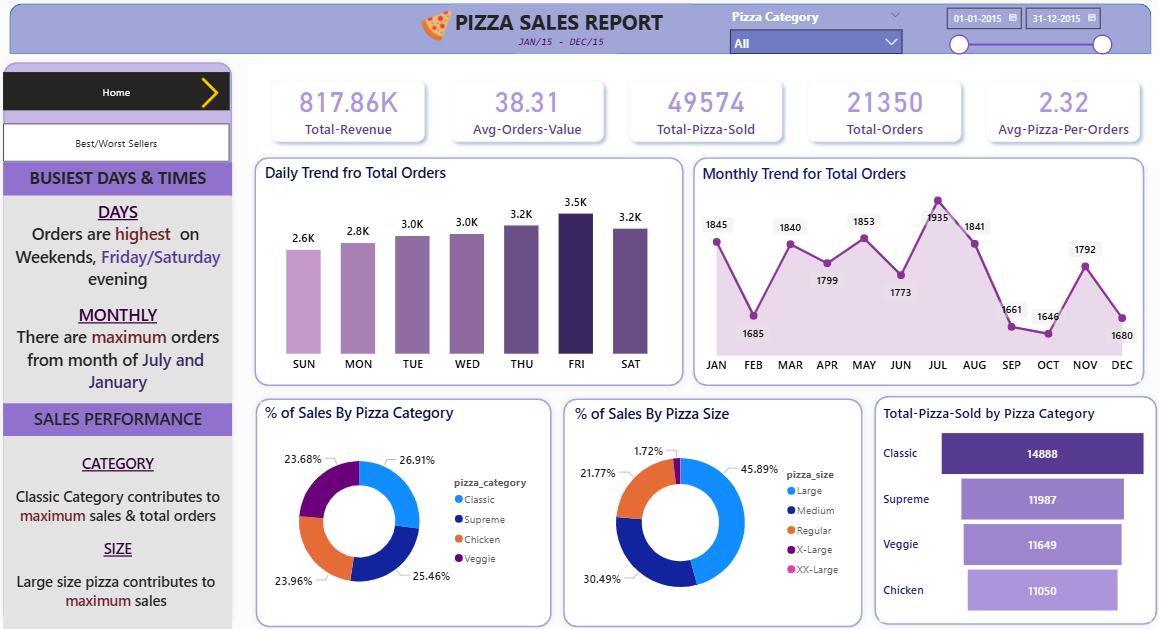

The page's visual inventory and layout, read from the dashboard file:
{"tool":"powerbi","page":{"name":"Home","canvas":[1500,820],"ordinal":0},"visuals":[{"type":"shape","box":[0,77.9,310.3,742.4],"z":0},{"type":"textbox","box":[8.5,213.9,294.7,42.5],"z":1000},{"type":"cardVisual","fields":{"Data":["public pizza_sales.Total-Revenue","public pizza_sales.Avg-Orders-Value","public pizza_sales.Total-Pizza-Sold","public pizza_sales.Total-Orders","public pizza_sales.Avg-Pizza-Per-Orders"]},"box":[323.2,78.8,1177.1,138.3],"z":2000},{"type":"shape","box":[15.6,9.9,1469.2,65.2],"z":3000},{"type":"textbox","box":[583.7,9.9,307.4,52.4],"z":4000},{"type":"textbox","box":[665.9,43.9,131.8,31.2],"z":5000},{"type":"image","box":[517.1,18.4,94.9,41.1],"z":6000},{"type":"shape","box":[323,199.8,568.1,310.3],"z":7000},{"type":"columnChart","title":"Daily Trend fro Total Orders","fields":{"Category":["public pizza_sales.order_day"],"Y":["public pizza_sales.Total-Orders"]},"box":[340,213.9,532.7,280.5],"z":8000},{"type":"shape","box":[888.3,199.8,596.4,310.3],"z":9000},{"type":"areaChart","title":"Monthly Trend for Total Orders","fields":{"Category":["public pizza_sales.order_month"],"Y":["public pizza_sales.Total-Orders"]},"box":[902.5,215.3,569.5,280.5],"z":10000},{"type":"shape","box":[324.4,510,396.7,310.3],"z":11000},{"type":"shape","box":[719.7,510,400.9,310.3],"z":12000},{"type":"shape","box":[1120.6,507.2,379.7,310.3],"z":13000},{"type":"donutChart","title":"% of Sales By Pizza Category","fields":{"Category":["public pizza_sales.pizza_category"],"Y":["public pizza_sales.Total-Revenue"]},"box":[340,522.8,362.7,281.9],"z":14000},{"type":"donutChart","title":"% of Sales By Pizza Size","fields":{"Category":["public pizza_sales.pizza_size"],"Y":["public pizza_sales.Total-Revenue"]},"box":[738.1,524.2,362.7,281.9],"z":15000},{"type":"funnel","title":"Total-Pizza-Sold by Pizza Category","fields":{"Category":["public pizza_sales.pizza_category"],"Y":["public pizza_sales.Total-Pizza-Sold"]},"box":[1134.8,524.2,349.9,280.5],"z":16000},{"type":"textbox","box":[8.5,257.8,294.7,266.3],"z":17000},{"type":"textbox","box":[8.5,524.2,294.7,42.5],"z":18000},{"type":"textbox","box":[8.5,566.7,294.7,250.8],"z":19000},{"type":"slicer","fields":{"Values":["public pizza_sales.pizza_category"]},"box":[932.2,9.9,242.3,65.2],"z":20000},{"type":"slicer","fields":{"Values":["public pizza_sales.order_date"]},"box":[1209.9,4.3,233.8,73.7],"z":21000},{"type":"pageNavigator","box":[8,98.1,291.1,49.9],"z":22000},{"type":"pageNavigator","box":[8,164,291.1,49.9],"z":23000},{"type":"image","box":[249.3,104.5,49.9,40.2],"z":23001}]}

Visuals, with their boxes in screenshot pixels (x1, y1, x2, y2), scaled from the page's 1500x820 canvas onto the 1159x629 screenshot:
shape: crop(0, 60, 240, 628)
textbox: crop(7, 164, 234, 197)
cardVisual - public pizza_sales.Total-Revenue x public pizza_sales.Avg-Orders-Value: crop(250, 60, 1158, 167)
shape: crop(12, 8, 1147, 58)
textbox: crop(451, 8, 689, 48)
textbox: crop(515, 34, 616, 58)
image: crop(400, 14, 473, 46)
shape: crop(250, 153, 689, 391)
"Daily Trend fro Total Orders" columnChart: crop(263, 164, 674, 379)
shape: crop(686, 153, 1147, 391)
"Monthly Trend for Total Orders" areaChart: crop(697, 165, 1137, 380)
shape: crop(251, 391, 557, 628)
shape: crop(556, 391, 866, 628)
shape: crop(866, 389, 1158, 627)
"% of Sales By Pizza Category" donutChart: crop(263, 401, 543, 617)
"% of Sales By Pizza Size" donutChart: crop(570, 402, 851, 618)
"Total-Pizza-Sold by Pizza Category" funnel: crop(877, 402, 1147, 617)
textbox: crop(7, 198, 234, 402)
textbox: crop(7, 402, 234, 435)
textbox: crop(7, 435, 234, 627)
slicer - public pizza_sales.pizza_category: crop(720, 8, 907, 58)
slicer - public pizza_sales.order_date: crop(935, 3, 1115, 60)
pageNavigator: crop(6, 75, 231, 114)
pageNavigator: crop(6, 126, 231, 164)
image: crop(193, 80, 231, 111)
